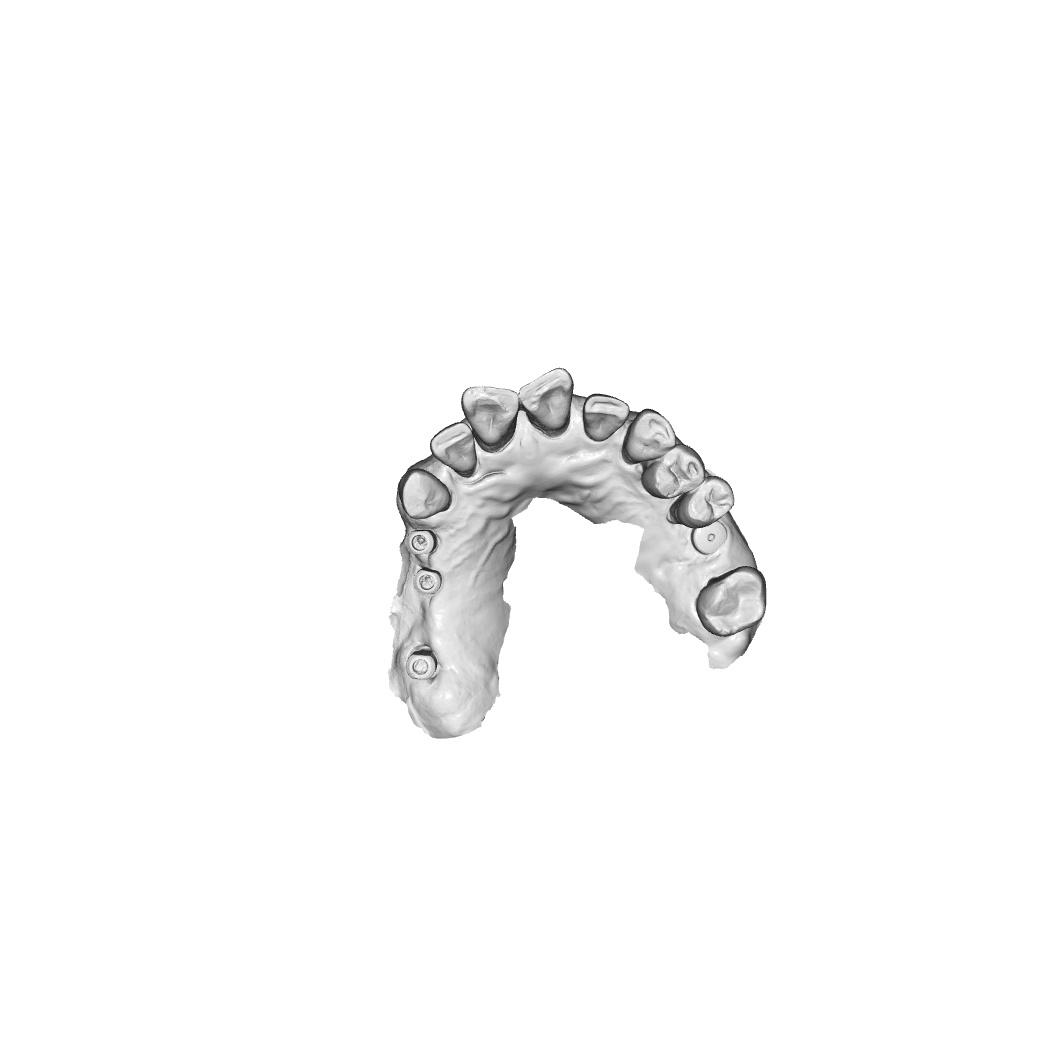canine: (621, 407, 677, 466), (398, 467, 453, 521)
implant: (690, 519, 728, 555), (404, 649, 440, 682), (404, 528, 441, 558), (412, 567, 443, 595)
incisor: (460, 385, 520, 452), (519, 367, 576, 437), (429, 421, 478, 478), (582, 393, 631, 443)
molar: (694, 564, 769, 638)
premolar: (641, 443, 706, 500), (672, 474, 736, 529)
